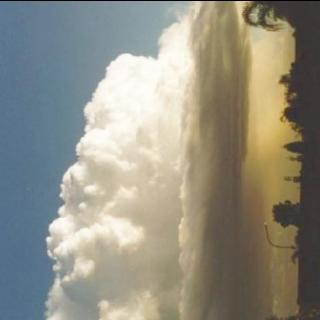Cumulonimbus: (35, 0, 286, 320)
